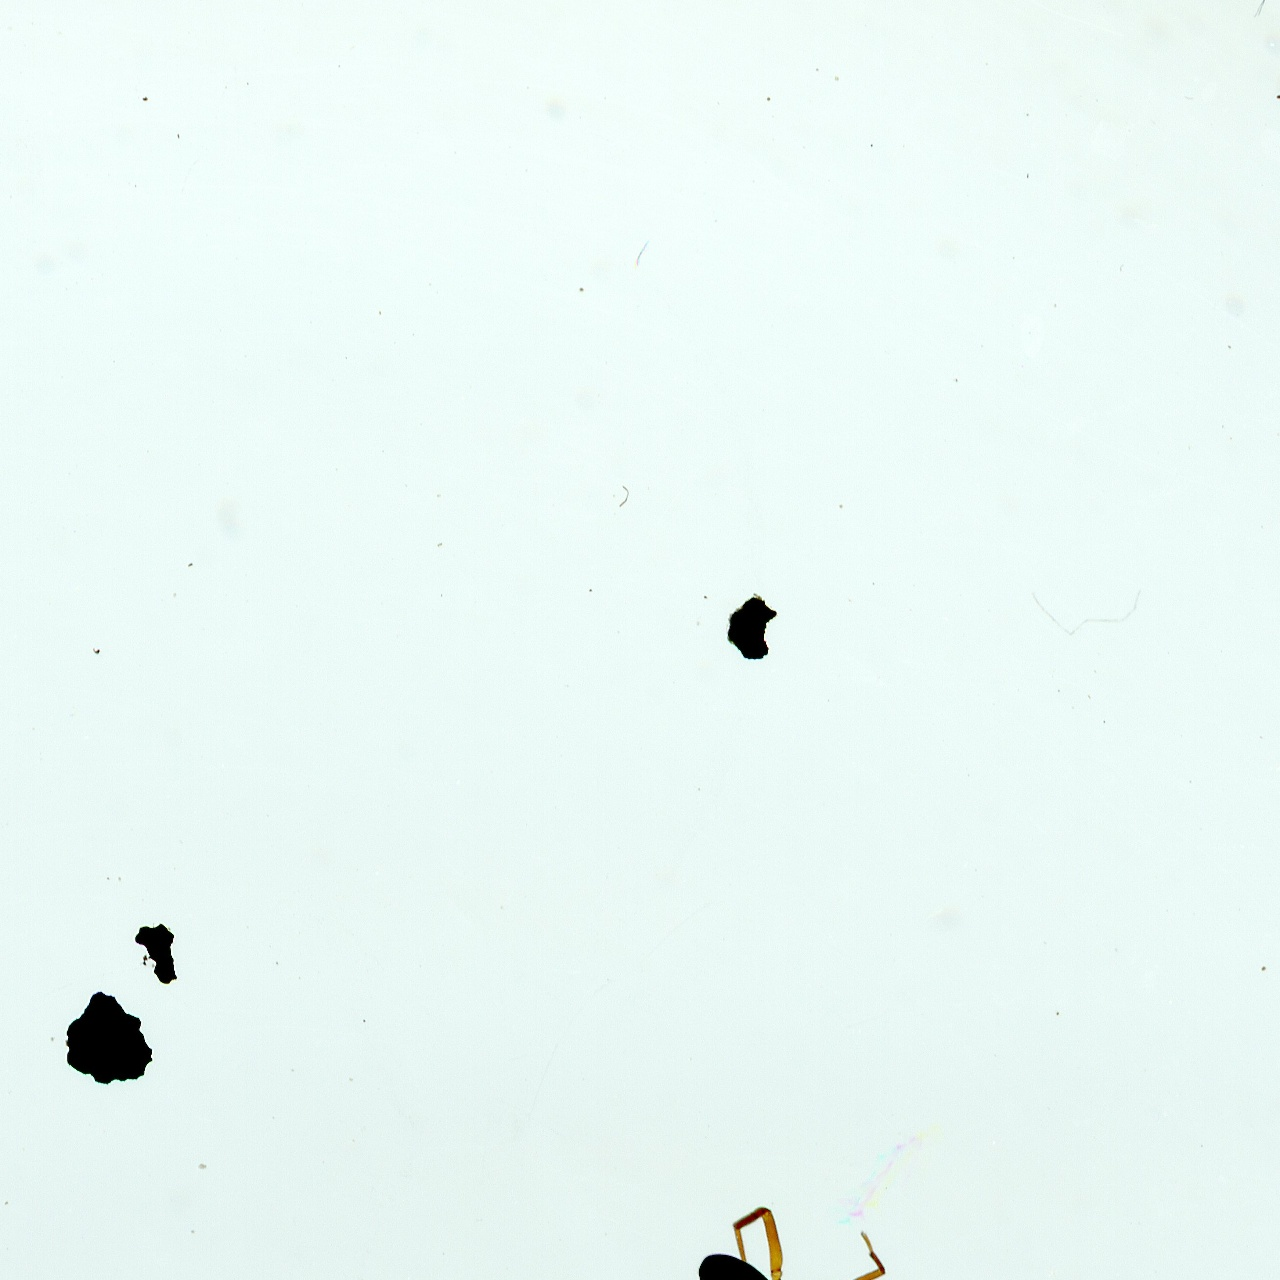arthropod: (670, 1188, 899, 1280)
